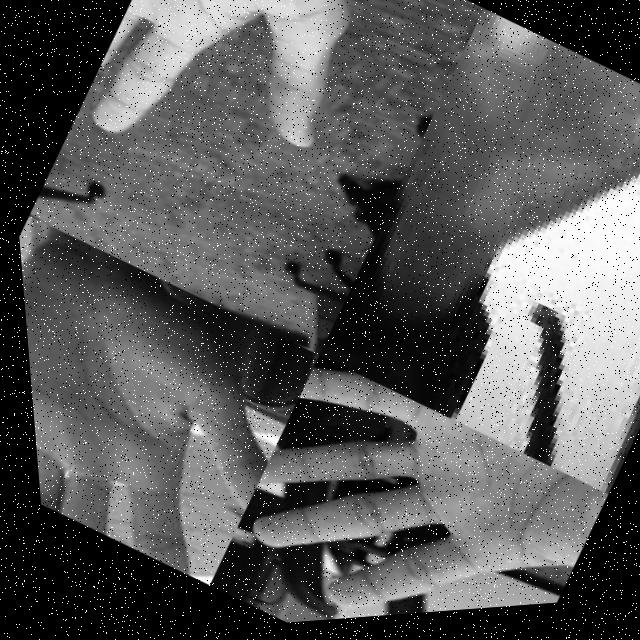hand: (14, 209, 323, 597), (202, 342, 606, 630), (374, 6, 640, 356), (60, 0, 414, 240)
